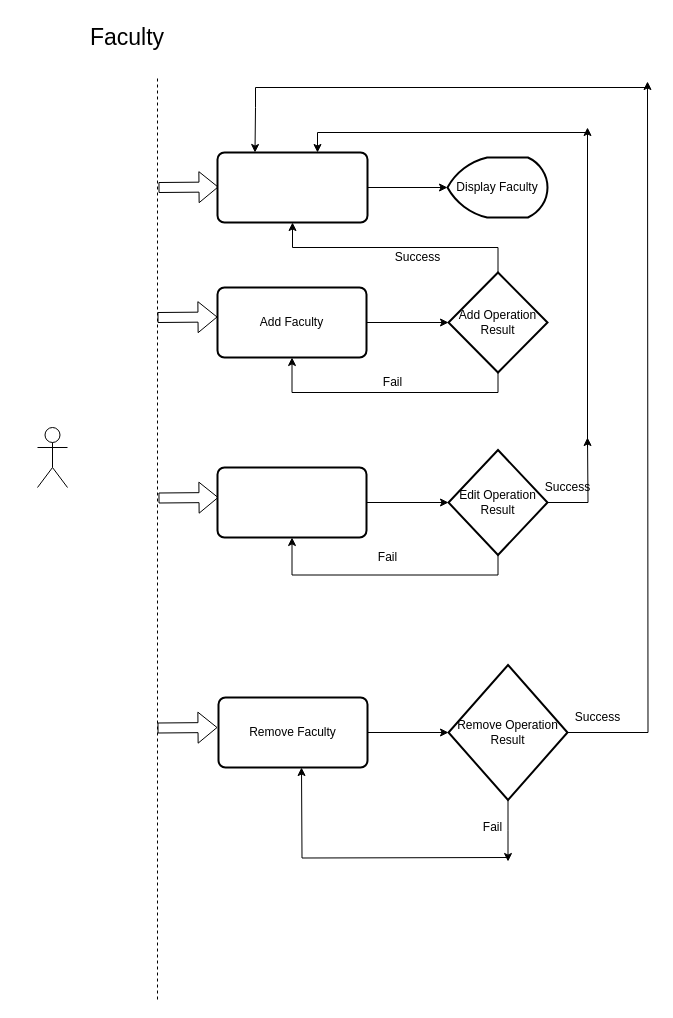
Image size: 673x1018. Some labels were removed from this diagram. The centre of each missing label's shape, as x and y in pixels:
Actor: (x=52, y=457)
Edit Faculty: (x=291, y=502)
View Faculty: (x=292, y=187)
